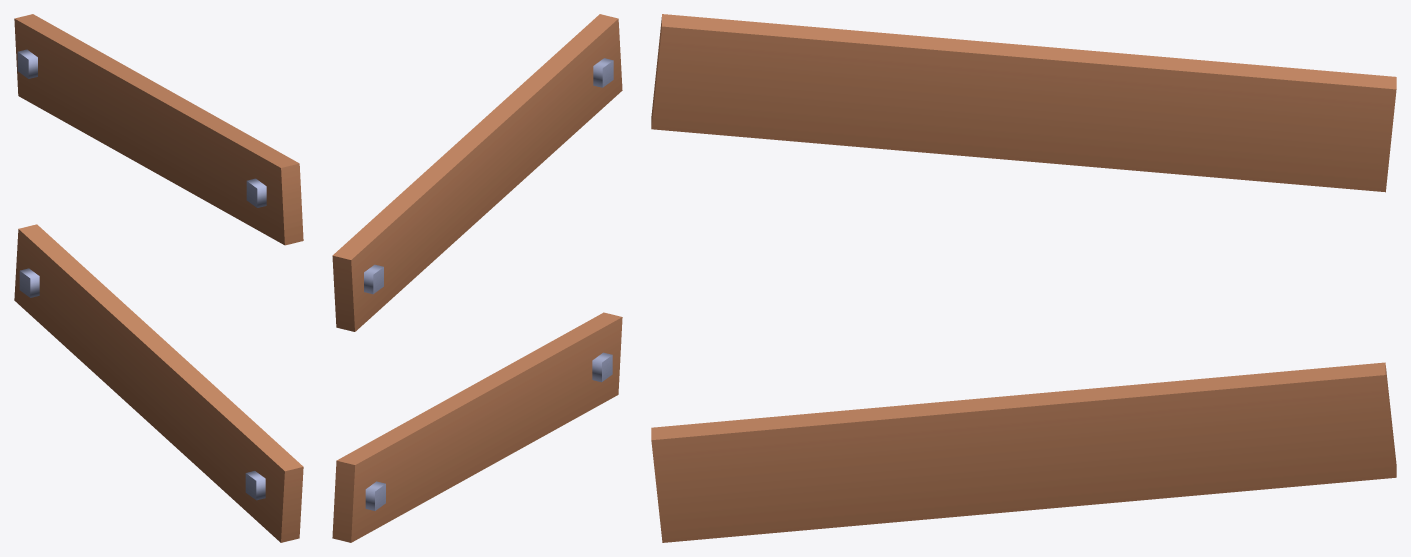
The model's file is building_barricade.glb.
The picture shows the model from 3 angles, left to right: view 1: azimuth 30°, elevation 25°; view 2: azimuth 150°, elevation 25°; view 3: azimuth 270°, elevation 25°; orthographic projection. The views are drawn at different scales.
Visible parts, largest first — view 1: barricade-window-a; view 2: barricade-window-a; view 3: barricade-window-a.
Part boxes in pixels (box(x1,y1,x2,y2)): barricade-window-a: box(14, 14, 303, 542); barricade-window-a: box(332, 14, 622, 542); barricade-window-a: box(651, 14, 1396, 542).
Bounding box in the file's own units: 0.075 × 0.9602 × 1.26.
Materials: 1 (1 with a texture image).
